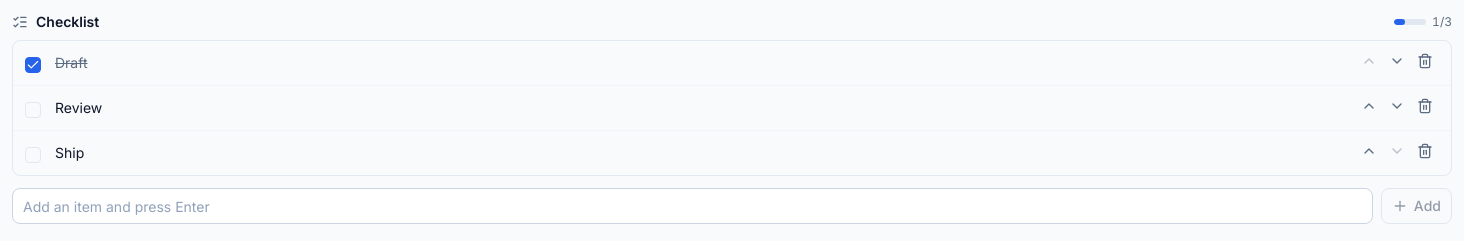
Test: TaskChecklist › renames an item inline: Enter saves, Escape cancels
Click the button "Review" at (79,108), box [51,92,1345,124]
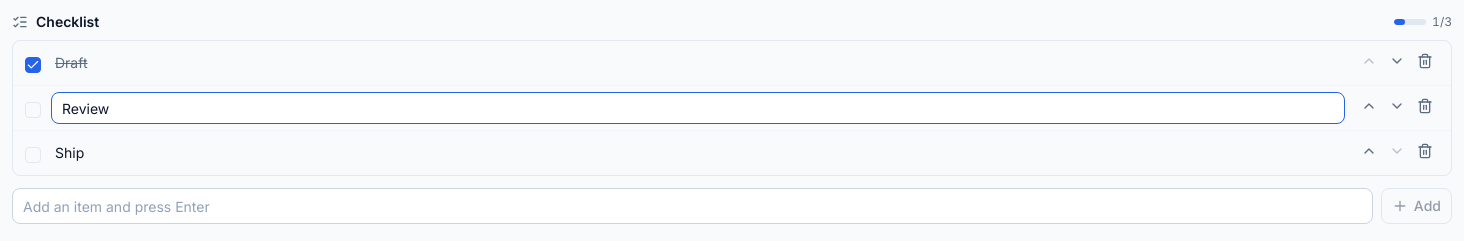
Replace the text in the field named "Rename checklist item \"Review\"" with "Peer review" at (698,108), box [51,92,1345,124]
Then press Enter
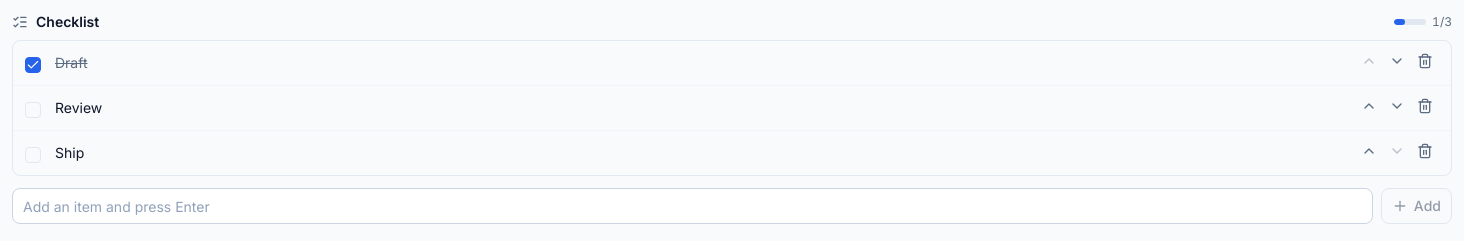
Click the button "Ship" at (70,152), box [51,137,1345,169]
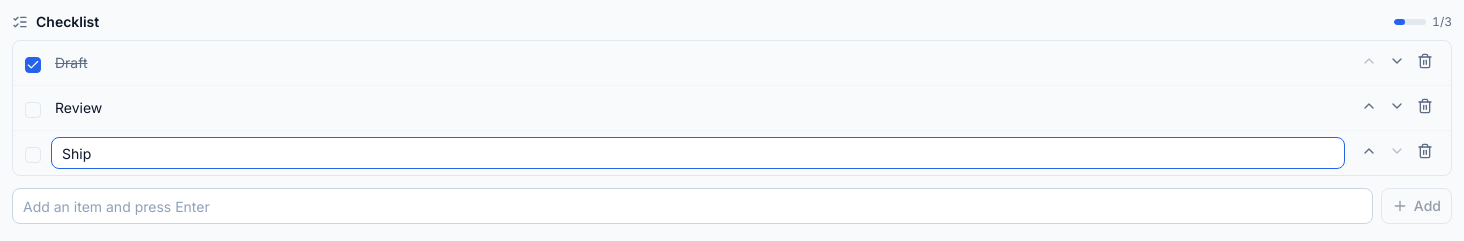
Type " now" into the field named "Rename checklist item \"Ship\"" at (698,153), box [51,137,1345,169]
Then press Escape
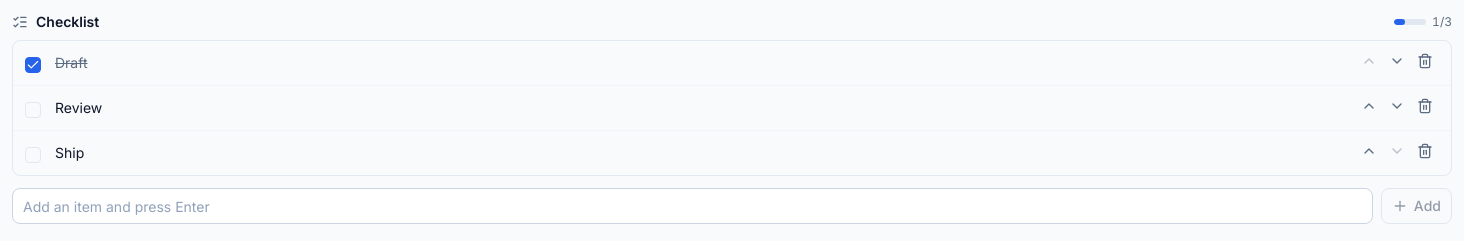
Expected: the button "Ship" is shown, [51,137,1345,169]
